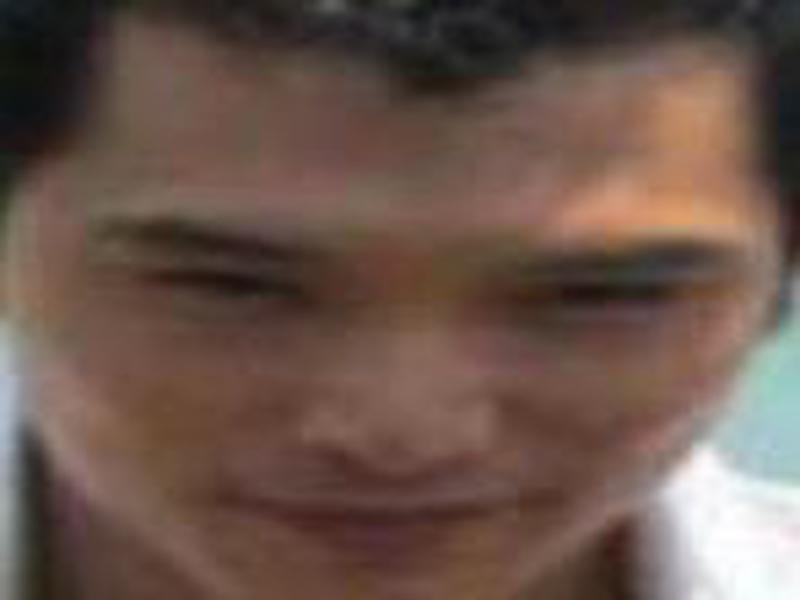without_mask: (19, 25, 785, 600)
